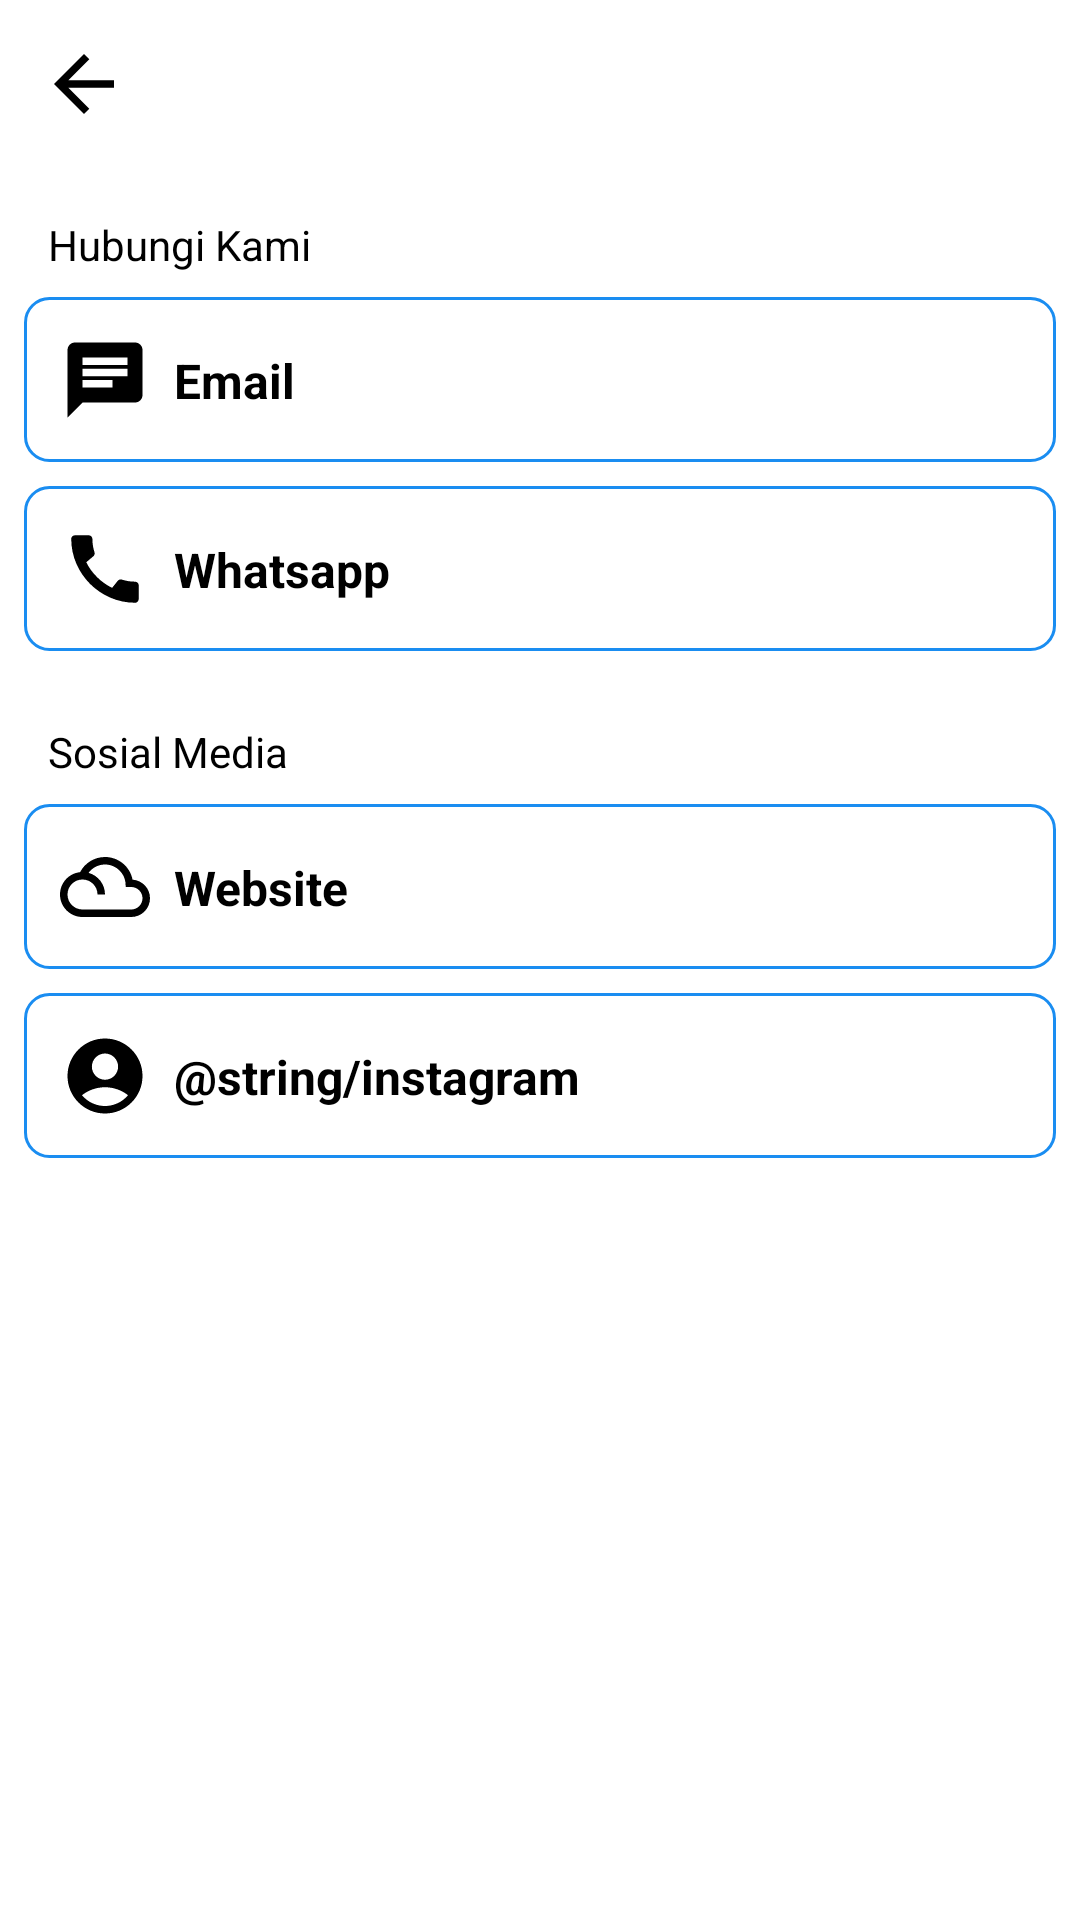

Locate icon controls on the screen. Image size 1080×1920, boxes as BBox(x1, y1, x2, y2).
account circle: BBox(67, 1038, 143, 1114)
call: BBox(71, 535, 139, 603)
chat: BBox(67, 342, 143, 418)
filter drama: BBox(60, 857, 150, 917)
